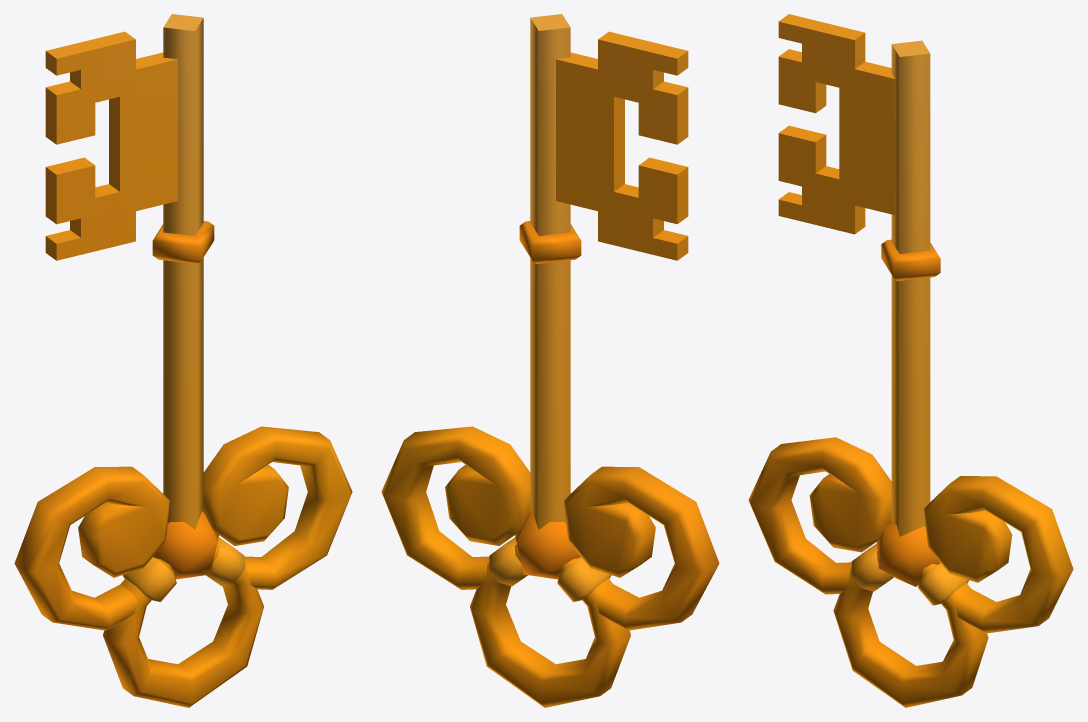
The model's file is MEC0210004.fbx.
3 renders of one model, left to right at view 1: azimuth 30°, elevation 25°; view 2: azimuth 150°, elevation 25°; view 3: azimuth 330°, elevation 25°, orthographic. The views are drawn at different scales.
Visible parts, largest first — view 1: smMEC0210004; view 2: smMEC0210004; view 3: smMEC0210004.
Part boxes in pixels (x1,y1,x2,y2): smMEC0210004: (14, 14, 352, 707); smMEC0210004: (381, 14, 719, 707); smMEC0210004: (748, 14, 1073, 707).
Size of the model in its own units: 38.03 by 75.71 by 7.19.
Materials: 1 (1 with a texture image).
